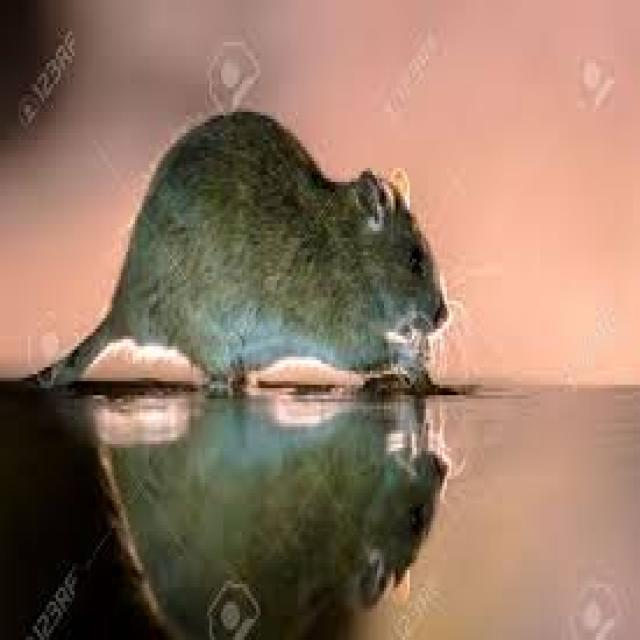rat: (26, 105, 453, 399), (0, 381, 456, 637)
